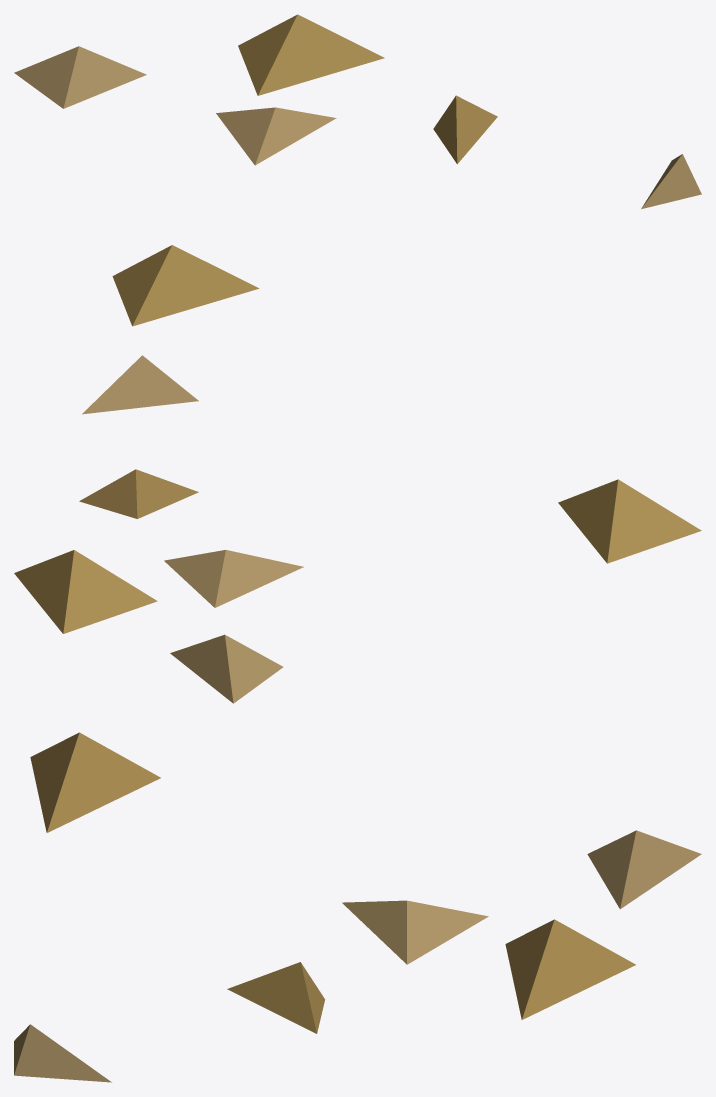
The picture shows the model from 3 angles, top to bottom: view 1: azimuth 30°, elevation 25°; view 2: azimuth 150°, elevation 25°; view 3: azimuth 270°, elevation 25°; orthographic projection. The views are drawn at different scales.
Size of the model in its own units: 94 by 8 by 84.
Materials: 1 (1 with a texture image).
